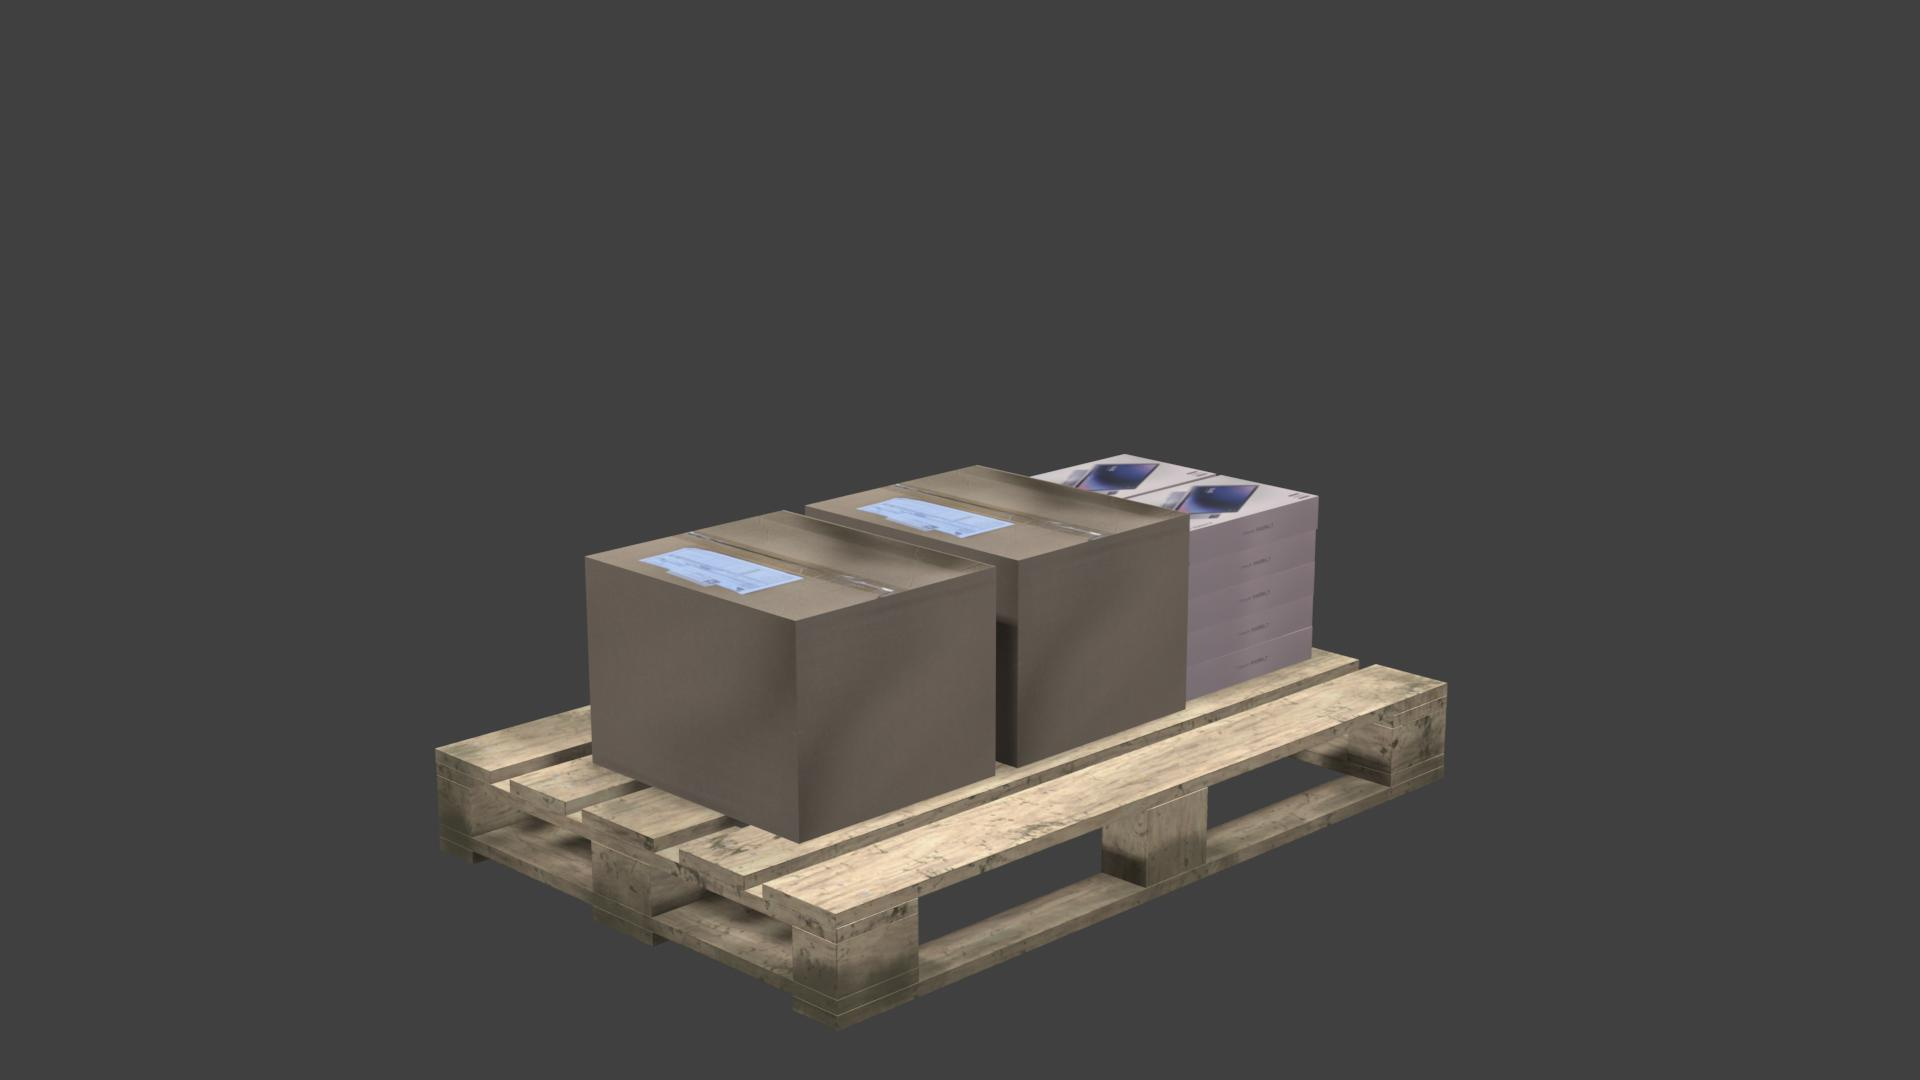group_box_left: (586, 558, 996, 844), (998, 515, 1189, 769)
group_box_top: (590, 511, 992, 620), (808, 466, 1188, 561)
palet: (437, 647, 1448, 1033)
tablet_left: (1187, 628, 1312, 702), (1189, 561, 1315, 634), (1187, 596, 1313, 668), (1190, 497, 1318, 566), (1189, 530, 1315, 599)
tablet_top: (1127, 475, 1318, 530), (1032, 454, 1215, 499)
